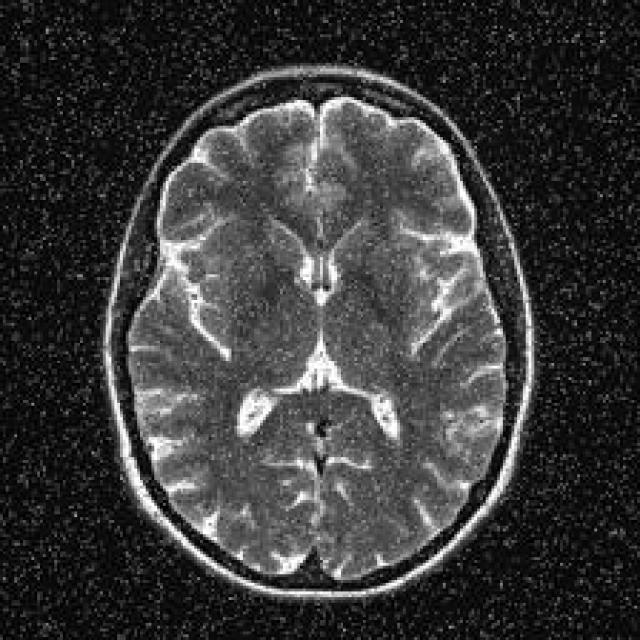no_tumor: (97, 60, 542, 612)
